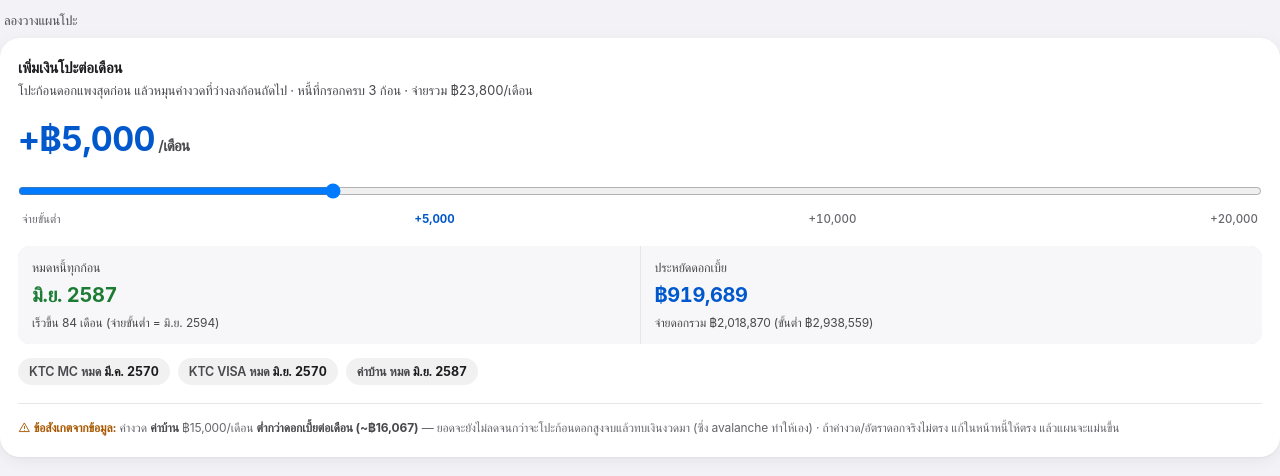
Test: Money Planner · ตัวจำลองโปะหนี้บนแท็บหนี้ (v4.48) › recomputes the numbers when the slider moves
Check: the element showing "+฿5,000 /เดือน" is shown, box [18,118,189,159]
Set the slider named "เพิ่มเงินโปะต่อเดือน" to "15000": (947, 191) [18,178,1262,204]
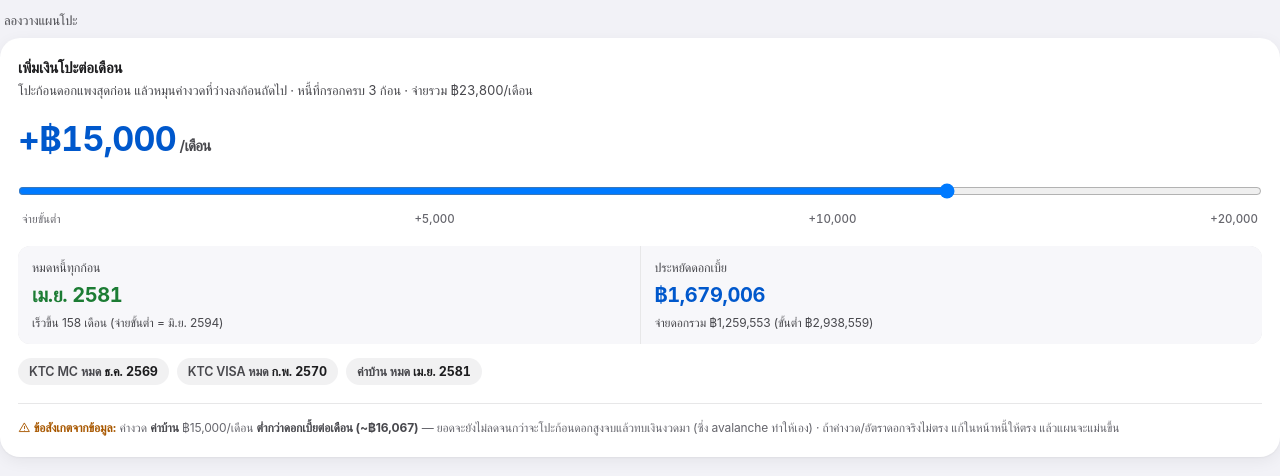
Check: the element showing "+฿15,000 /เดือน" is shown, box [18,118,211,159]
